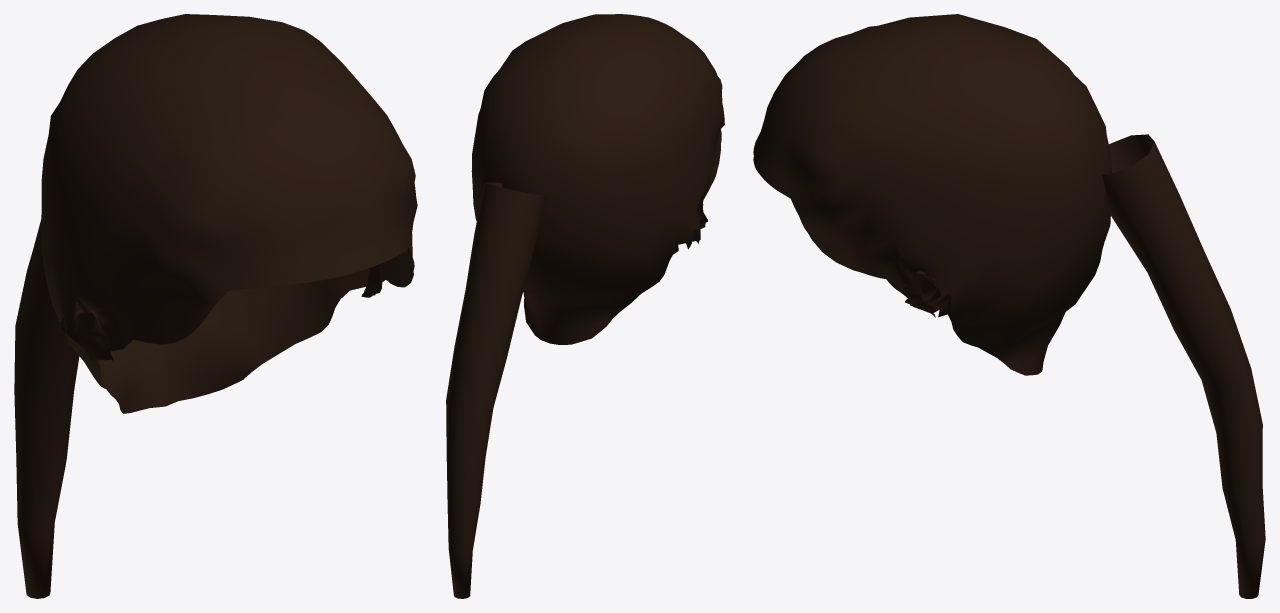
Rendered from hair_ponytail.glb.
3 views of the same model, side by side, from view 1: azimuth 30°, elevation 25°; view 2: azimuth 150°, elevation 25°; view 3: azimuth 270°, elevation 25° (orthographic). The views are drawn at different scales.
Parts seen in each view (by area): view 1: hair_ponytail; view 2: hair_ponytail; view 3: hair_ponytail.
Boxes of the visible parts, x1,y1,x2,y2 form: hair_ponytail: (14, 14, 417, 598); hair_ponytail: (446, 14, 724, 598); hair_ponytail: (753, 14, 1265, 598).
Size of the model in its own units: 0.1862 by 0.3831 by 0.3164.
